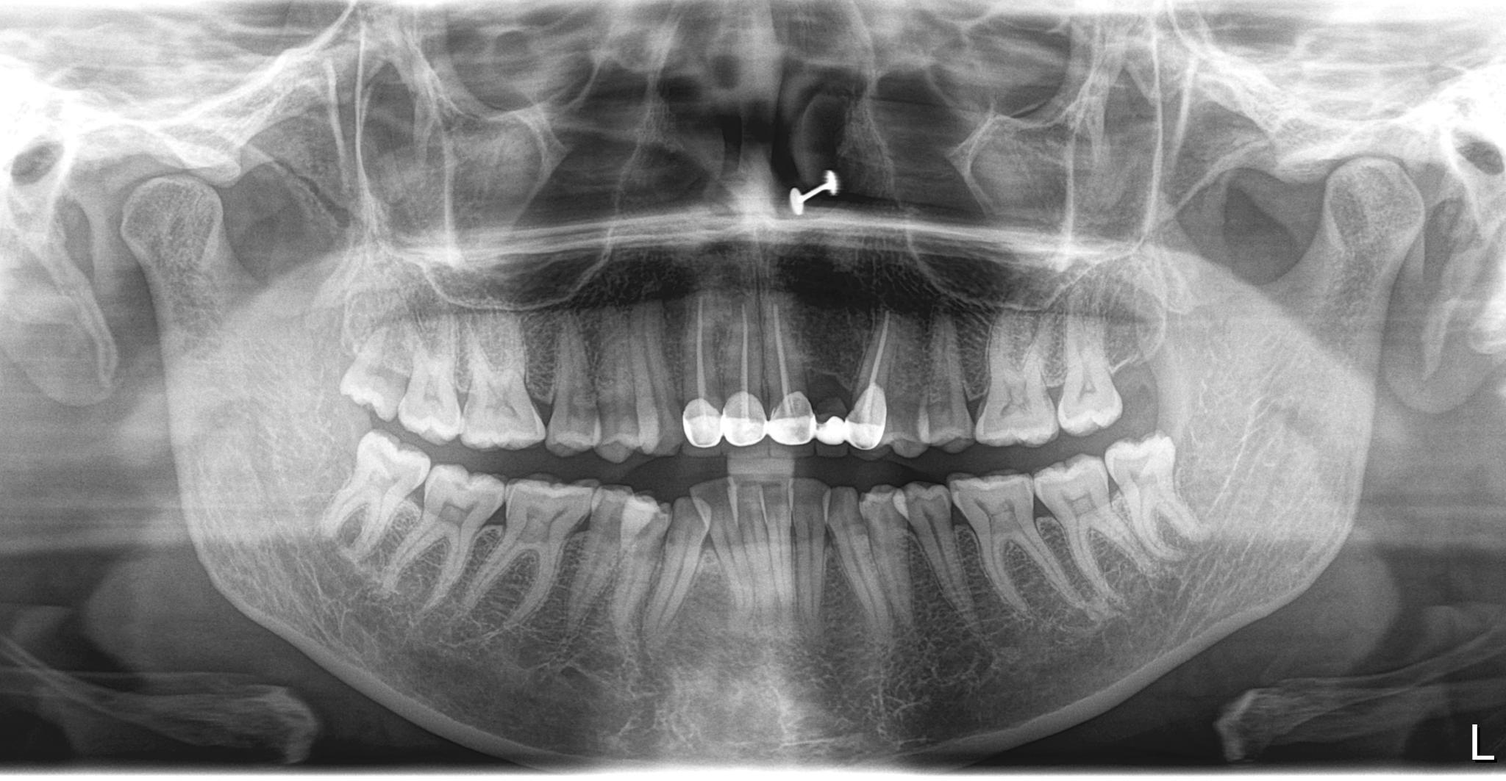Endodontically Treated Tooth: (673, 303, 896, 451)
